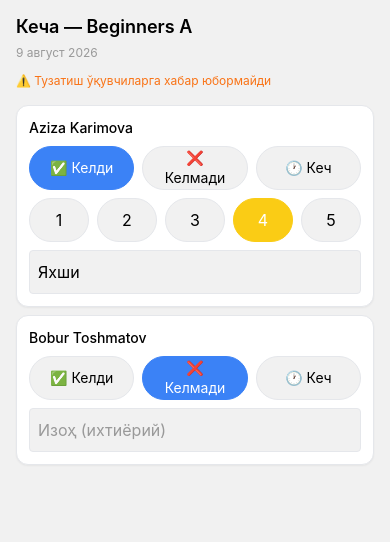
Yesterday — correcting › saves an edit made after the save button first appeared
The width and height of the screenshot is (390, 542).
Check: the heading "Кеча — Beginners A" is shown, box [16,16,192,37]
Click the button "🕐 Кеч" below "Aziza Karimova" at (308, 168), box [256,146,361,190]
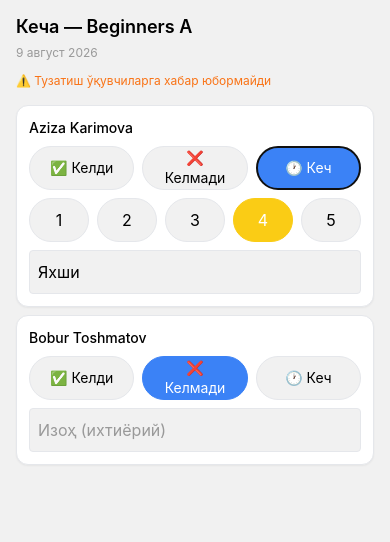
Type " жуда" into the field named "Aziza Karimova — изоҳ" at (195, 272), box [29,250,361,294]
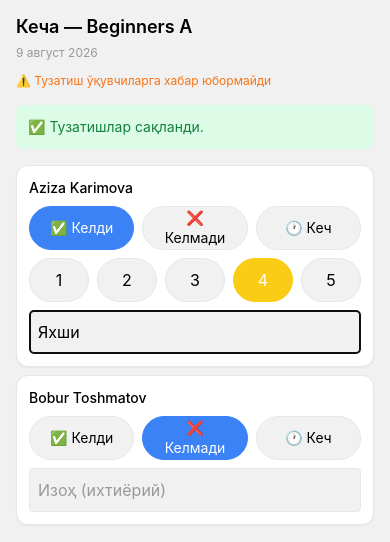
Check: the text "✅ Тузатишлар сақланди." is shown, box [16,105,374,149]
